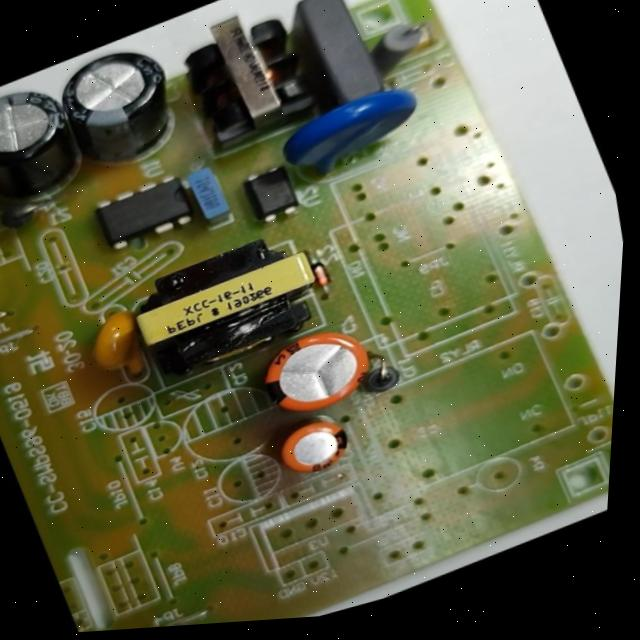Cap1: (237, 305, 394, 437)
Cap2: (258, 395, 371, 495)
Cap3: (29, 18, 209, 195)
Cap4: (0, 55, 112, 238)
MOSFET: (71, 153, 218, 265)
Mov: (259, 64, 450, 201)
Resistor: (348, 0, 451, 89)
Transformer: (101, 205, 358, 409), (151, 0, 353, 173)
